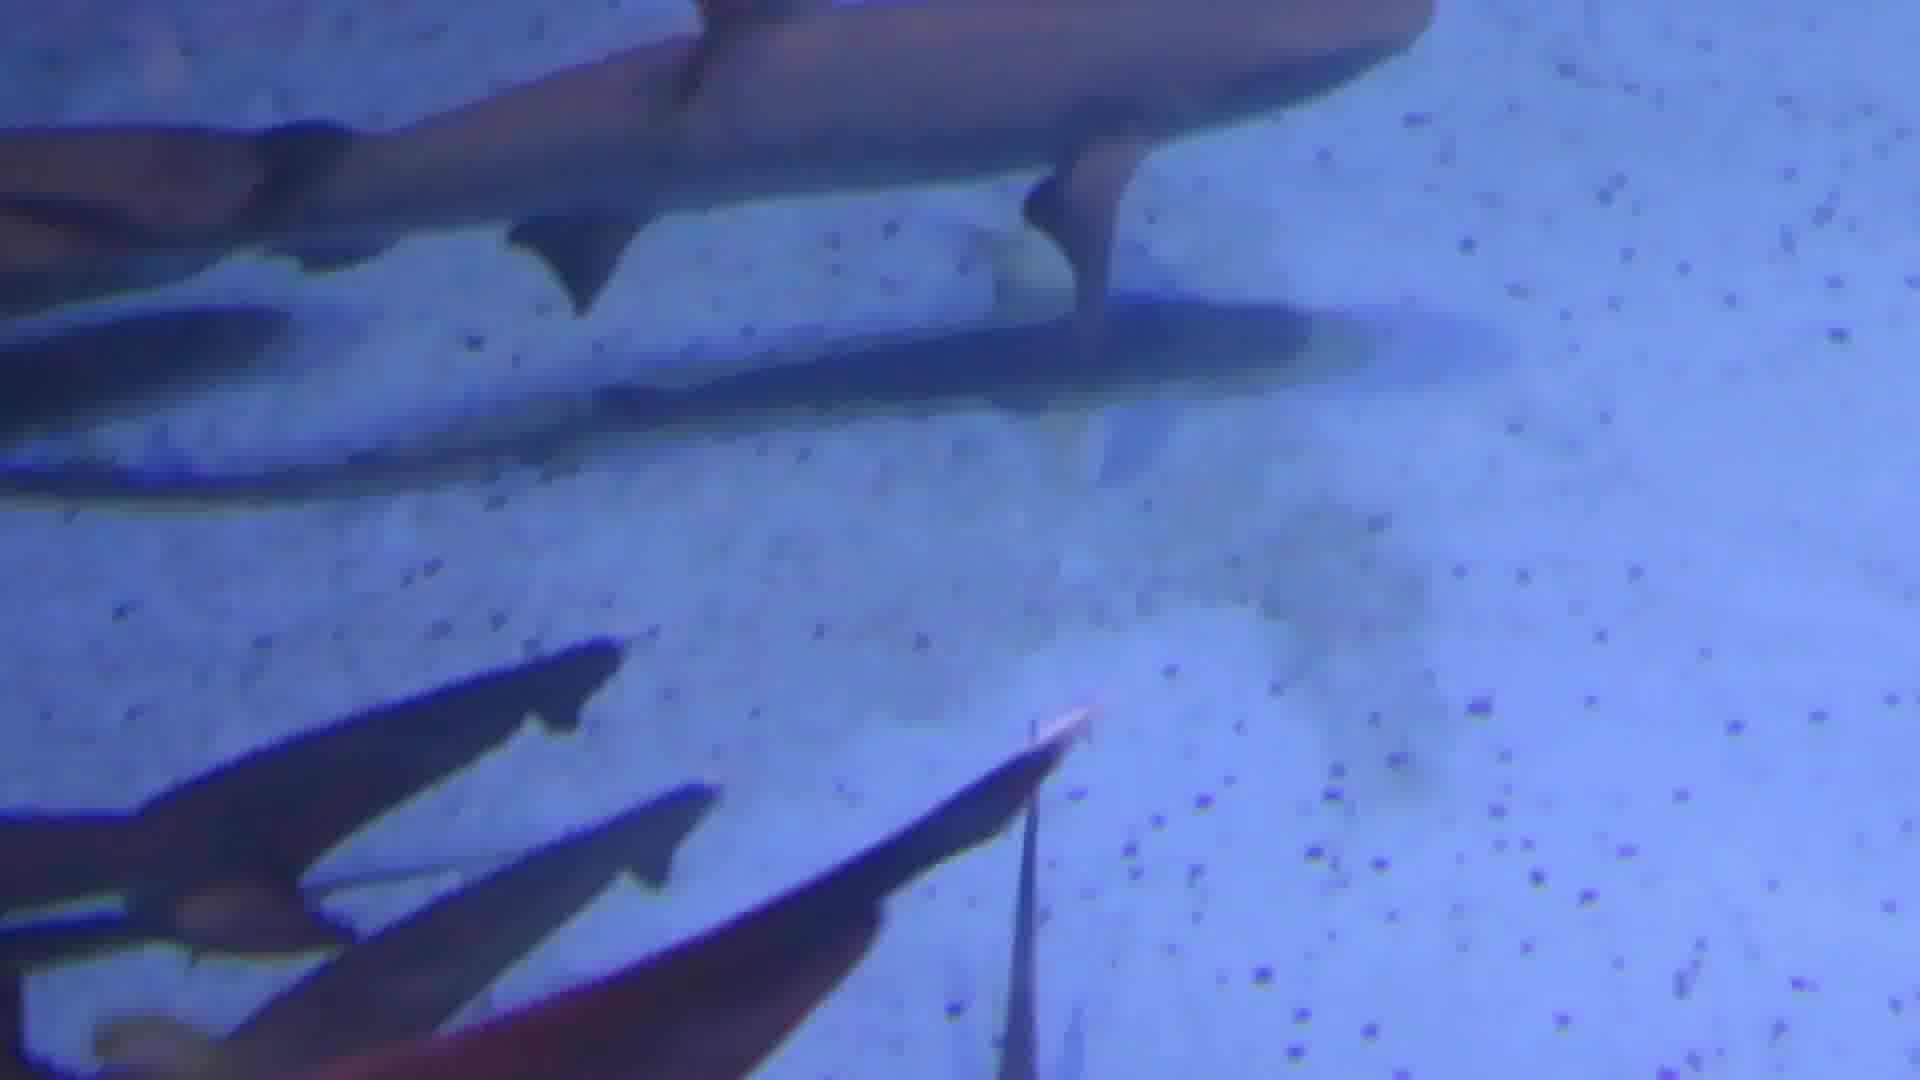Triaenodon obesus: (3, 8, 1473, 353)
